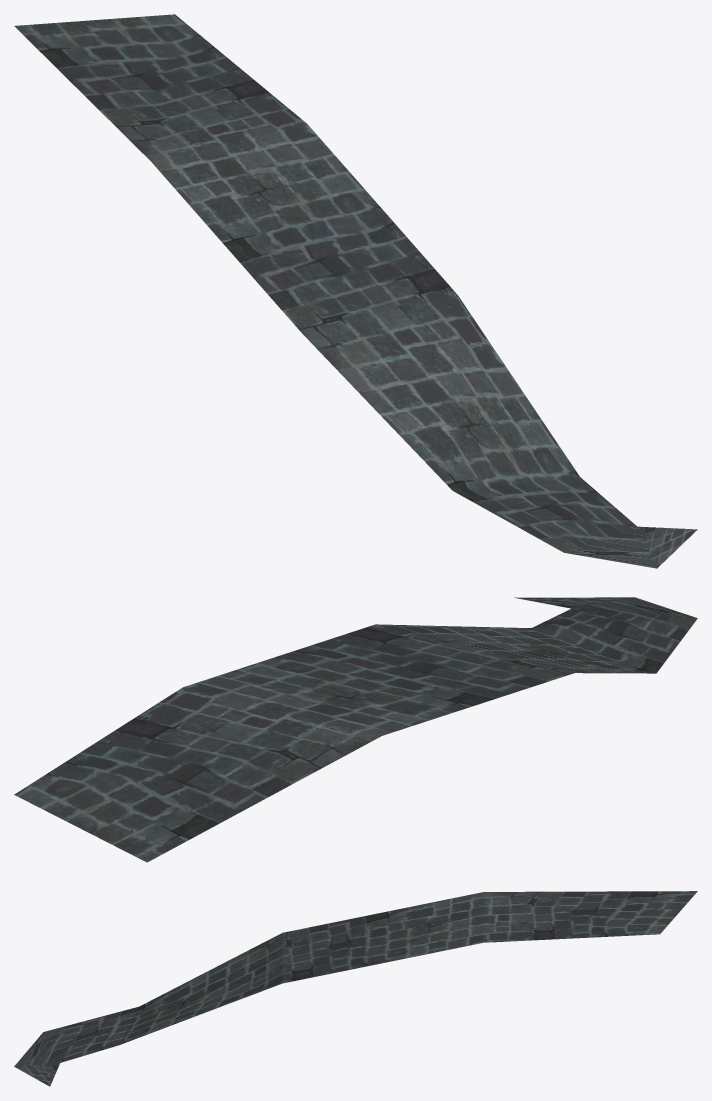
File: blend_brick11.fbx
3 views of the same model, one above another, from view 1: azimuth 30°, elevation 25°; view 2: azimuth 150°, elevation 25°; view 3: azimuth 270°, elevation 25° (orthographic). The views are drawn at different scales.
Parts seen in each view (by area): view 1: obj0.010; view 2: obj0.010; view 3: obj0.010.
Boxes of the visible parts, x1=… form: obj0.010: x1=14, y1=14, x2=697, y2=568; obj0.010: x1=14, y1=597, x2=697, y2=862; obj0.010: x1=14, y1=891, x2=697, y2=1086.
Size of the model in its own units: 3.81 by 3.27 by 15.25.
